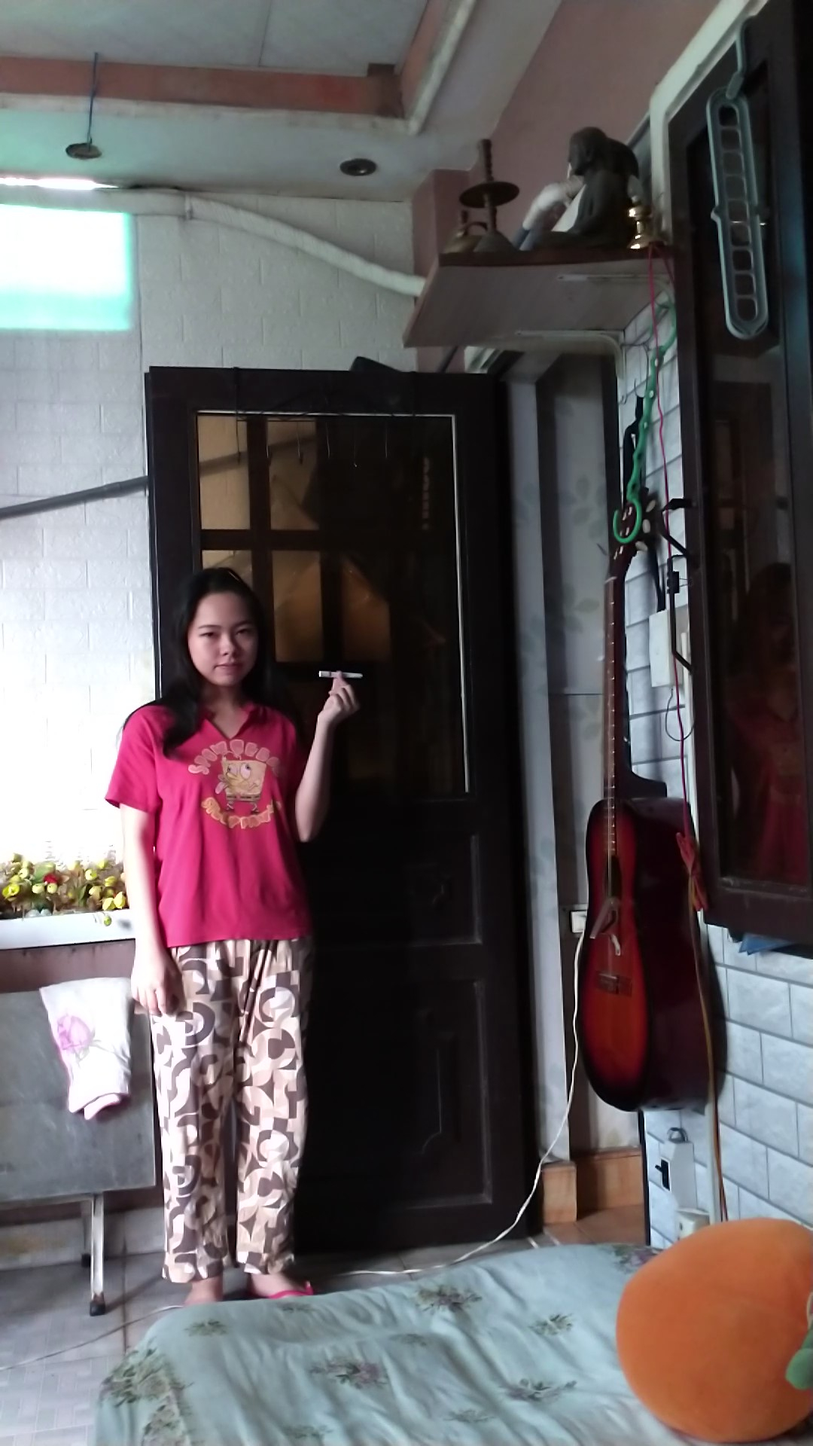cigarette: (315, 667, 366, 683)
person: (104, 542, 359, 1320)
